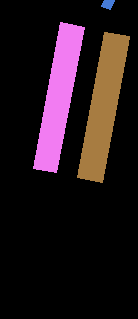parkingspot: (77, 32, 129, 182), (33, 22, 84, 172), (101, 0, 114, 9)
